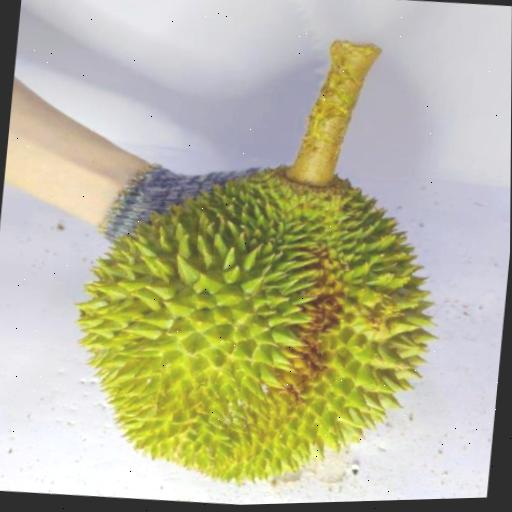rot: (21, 0, 512, 511)
